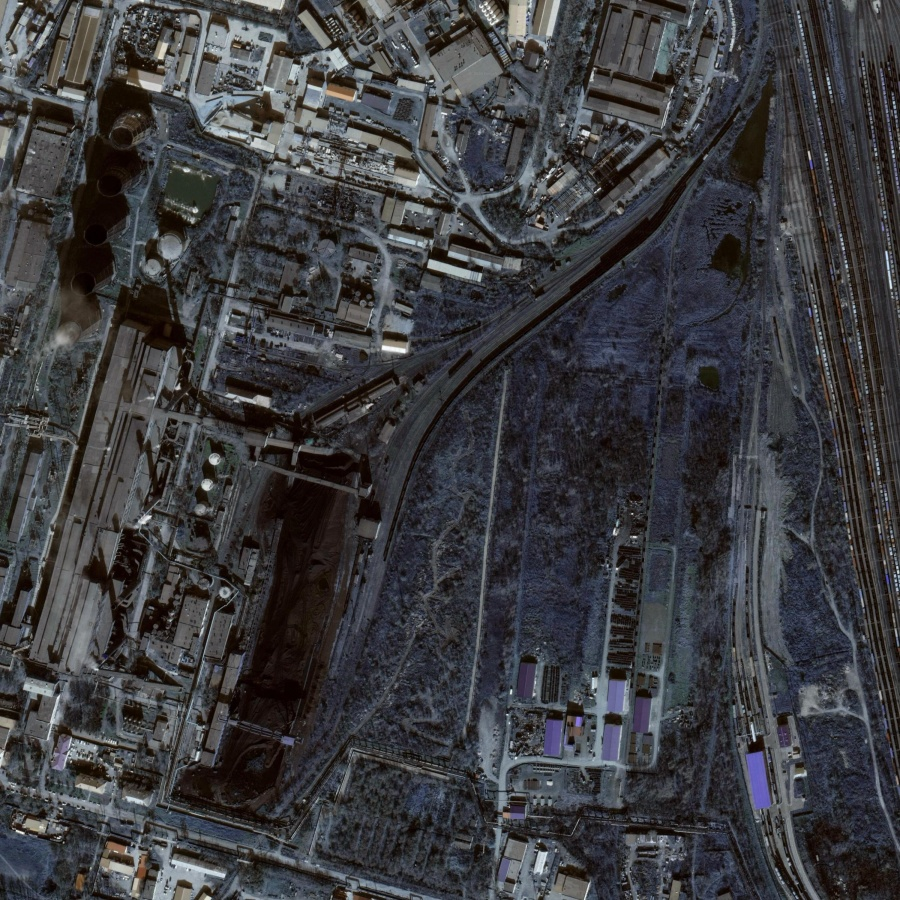PowerPlant: (78, 375, 382, 809), (25, 61, 195, 400)
